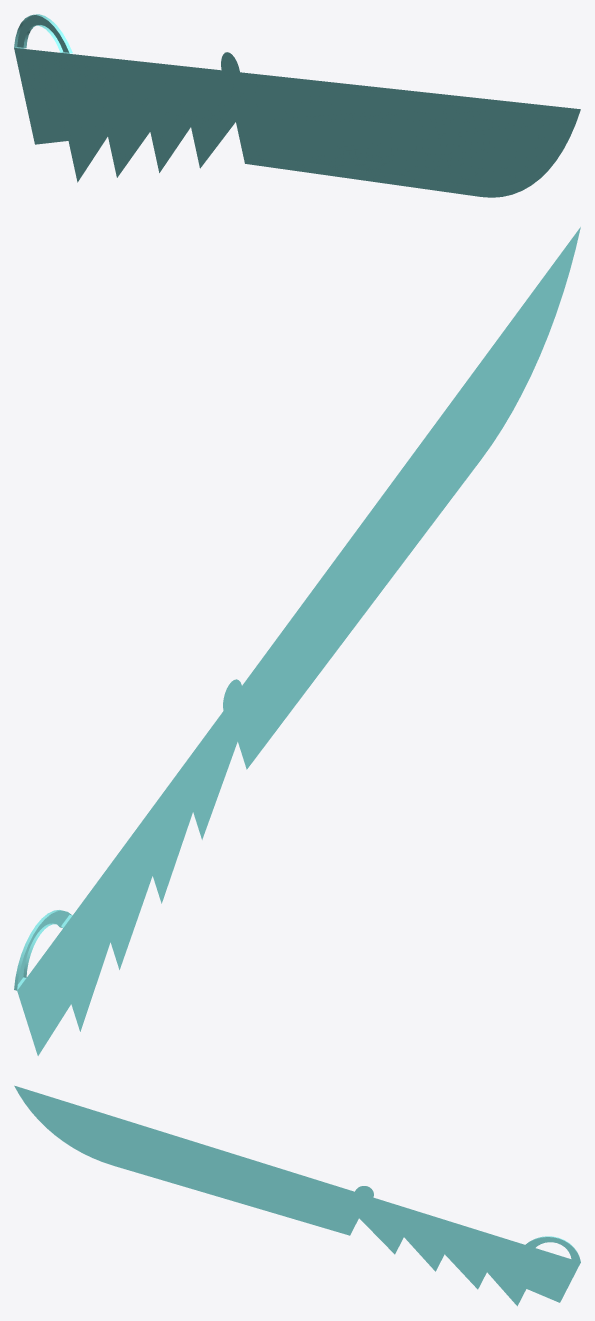
The model's file is original-12.obj.
3 renders of one model, top to bottom at view 1: azimuth 30°, elevation 25°; view 2: azimuth 150°, elevation 25°; view 3: azimuth 270°, elevation 25°, orthographic. The views are drawn at different scales.
Parts seen in each view (by area): view 1: Knife_Piece1/Knife_Piece/mesh2/mesh2-geometry#mesh2-geometry; view 2: Knife_Piece1/Knife_Piece/mesh2/mesh2-geometry#mesh2-geometry; view 3: Knife_Piece1/Knife_Piece/mesh2/mesh2-geometry#mesh2-geometry.
Part boxes in pixels (left/top/right/bottom): Knife_Piece1/Knife_Piece/mesh2/mesh2-geometry#mesh2-geometry: left=14, top=14, right=580, bottom=197; Knife_Piece1/Knife_Piece/mesh2/mesh2-geometry#mesh2-geometry: left=14, top=227, right=580, bottom=1055; Knife_Piece1/Knife_Piece/mesh2/mesh2-geometry#mesh2-geometry: left=14, top=1085, right=580, bottom=1306.
Size of the model in its own units: 0.00406 by 0.5473 by 1.27.
